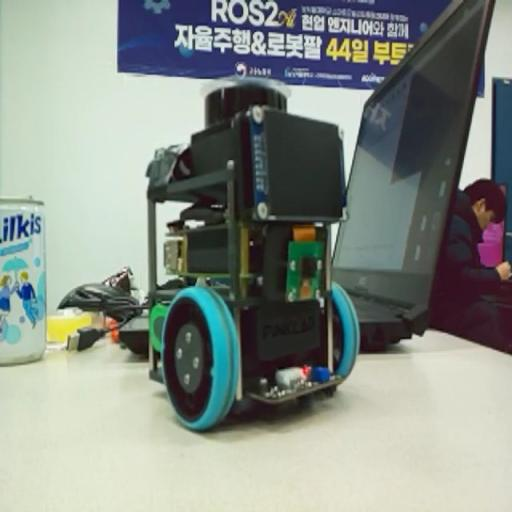pinky_63: (144, 73, 364, 434)
